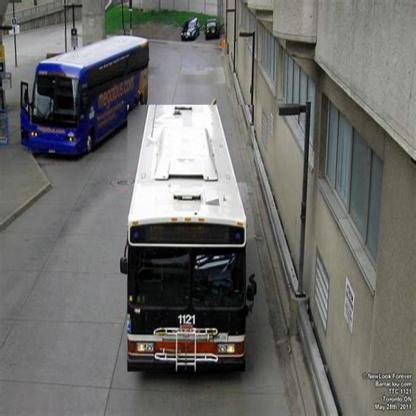bus: (129, 106, 256, 373), (29, 31, 148, 154)
